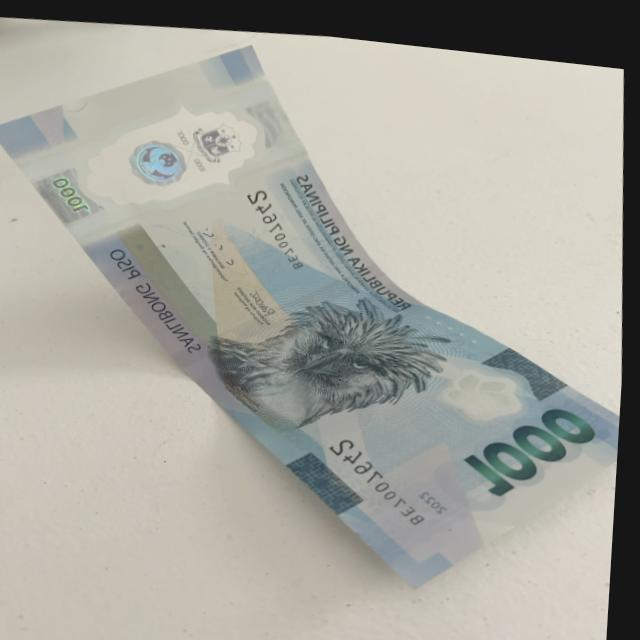clear_window: (7, 45, 321, 260)
eagle: (230, 274, 435, 435)
sampaguita: (421, 346, 540, 426)
security_thread: (169, 235, 397, 382)
serial_number: (326, 421, 441, 520), (244, 177, 316, 266)
value: (462, 379, 606, 499)
